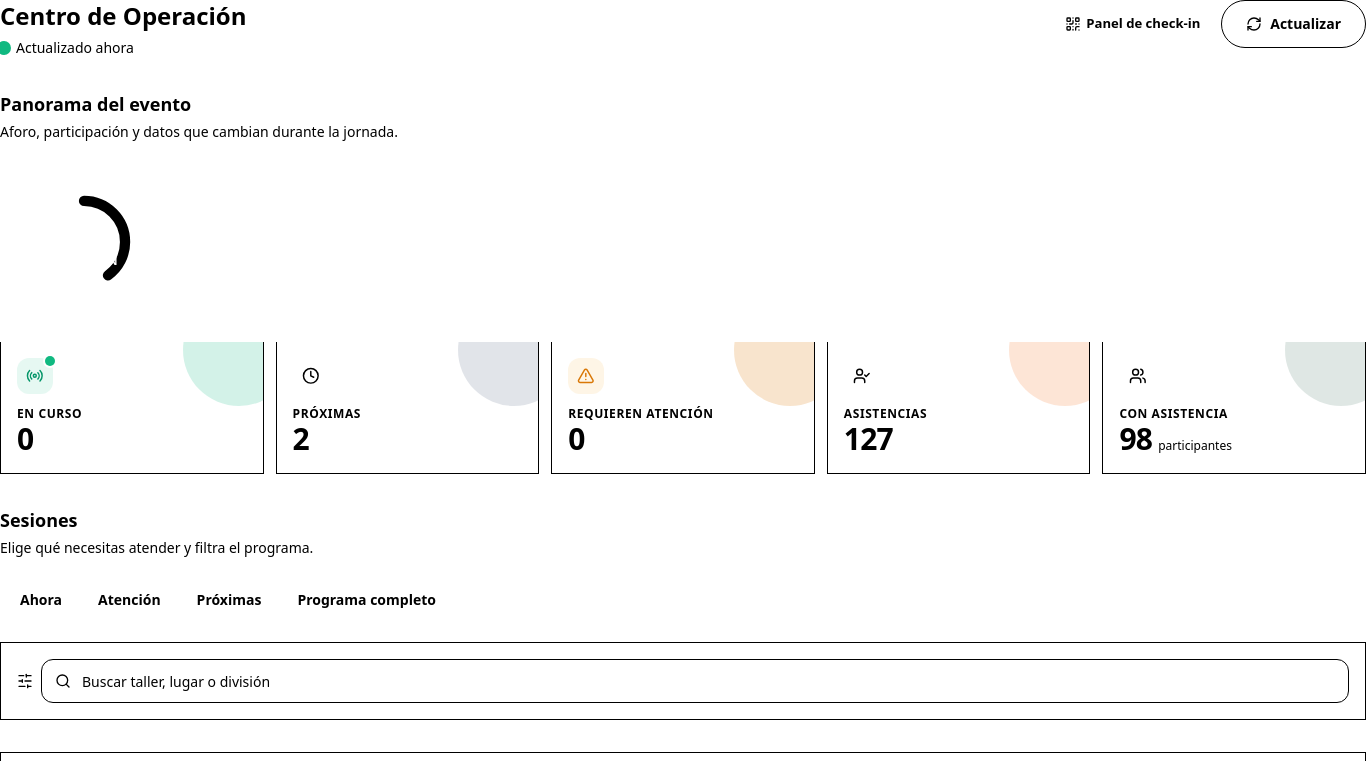
Test: a full or nearly full session is shown as demand, never as an incident
Click the tab "Próximas": click(229, 600) x1=181 y1=578 x2=277 y2=622
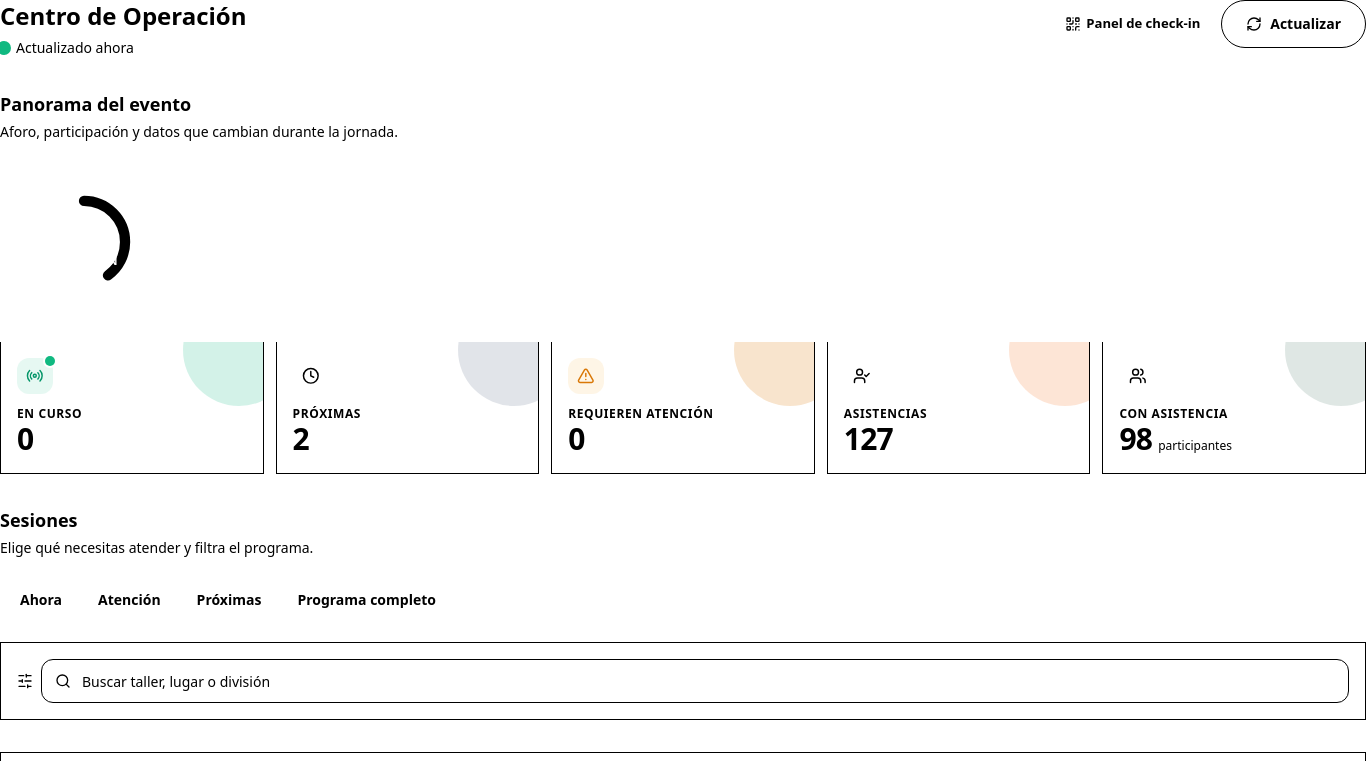
Click the tab "Atención": click(129, 600) x1=82 y1=578 x2=177 y2=622
(page scrolled)
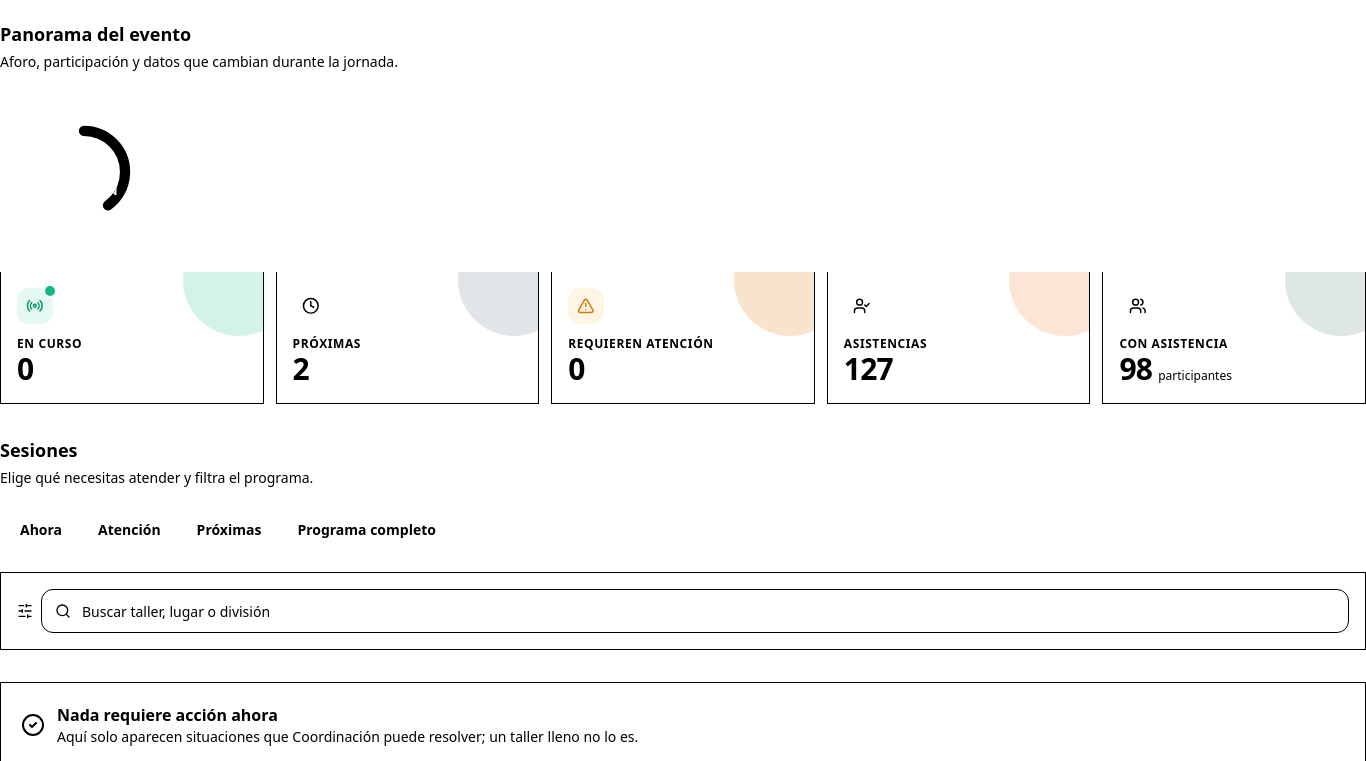
Now the text "Nada requiere acción ahora" is shown, box x1=57 y1=704 x2=278 y2=726
